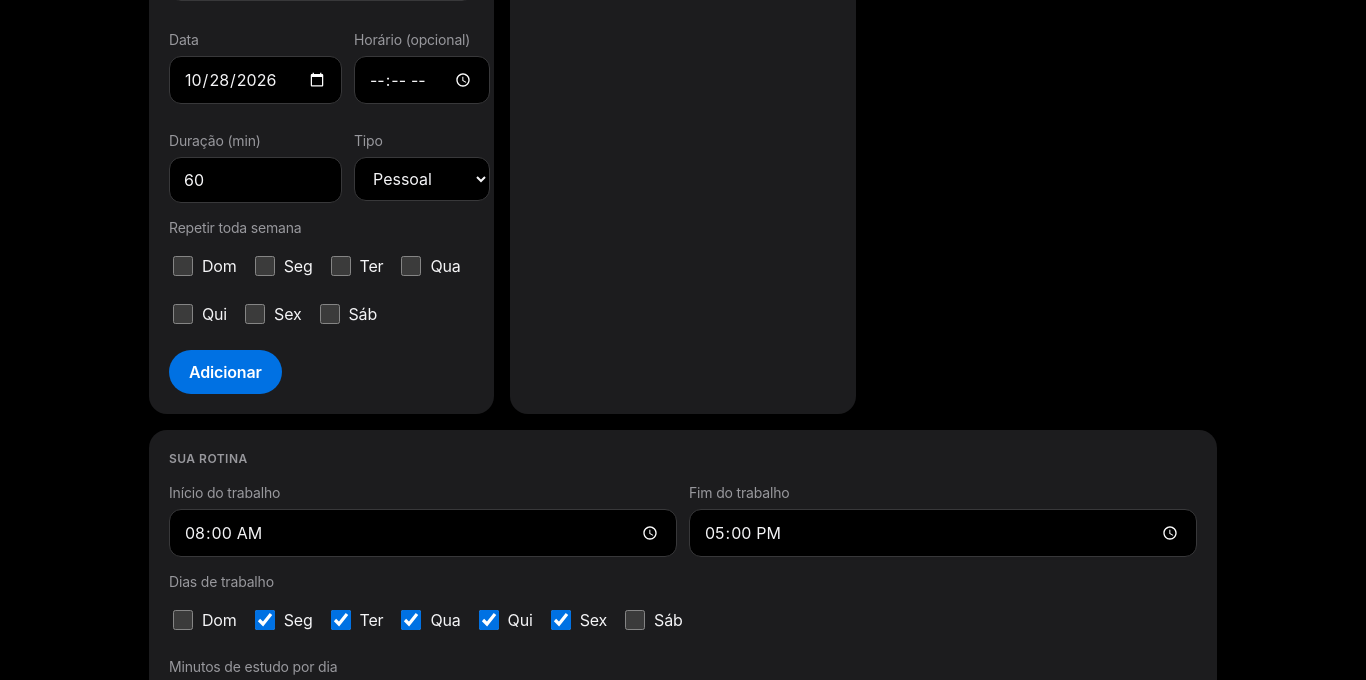
Test: título vazio mostra erro e não salva
(page scrolled)
What coordinates should you click on to do the following:
click the button "Adicionar"
I would click on:
 (225, 372)
Its box is top-left (169, 350), bottom-right (282, 394).
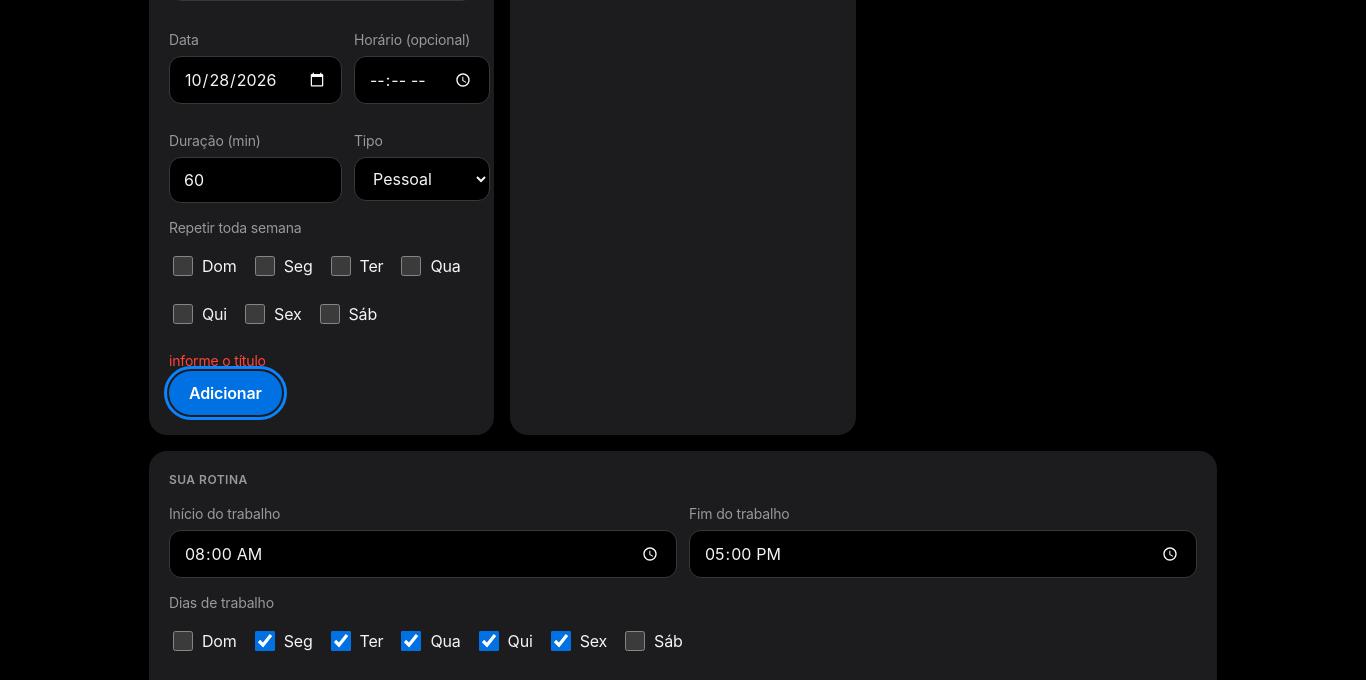
Expected: the text "informe o título" is shown, top-left (169, 352), bottom-right (266, 369)
